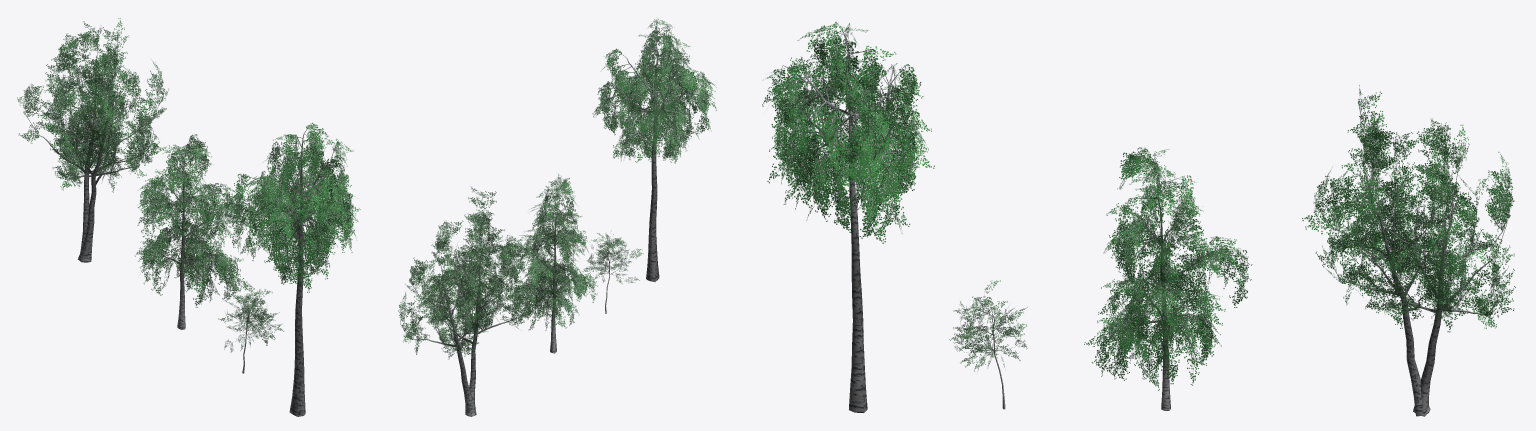
File: birch.glb
3 views of the same model, side by side, from view 1: azimuth 30°, elevation 25°; view 2: azimuth 150°, elevation 25°; view 3: azimuth 270°, elevation 25° (orthographic). The views are drawn at different scales.
Parts seen in each view (by area): view 1: birch-4, birch-2, birch-1, birch-3; view 2: birch-4, birch-2, birch-1, birch-3; view 3: birch-4, birch-2, birch-1, birch-3.
Boxes of the visible parts, x1,y1,x2,y2 form: birch-4: (17,18,168,262); birch-2: (227,122,360,416); birch-1: (134,134,249,329); birch-3: (218,280,283,373); birch-4: (398,186,534,416); birch-2: (592,18,716,281); birch-1: (495,173,597,353); birch-3: (582,233,643,313); birch-4: (1302,85,1515,416); birch-2: (762,21,934,412); birch-1: (1084,147,1252,410); birch-3: (949,280,1027,409).
Bounding box in the file's own units: 701 × 1527 × 2650.
Materials: 2 (2 with a texture image).
